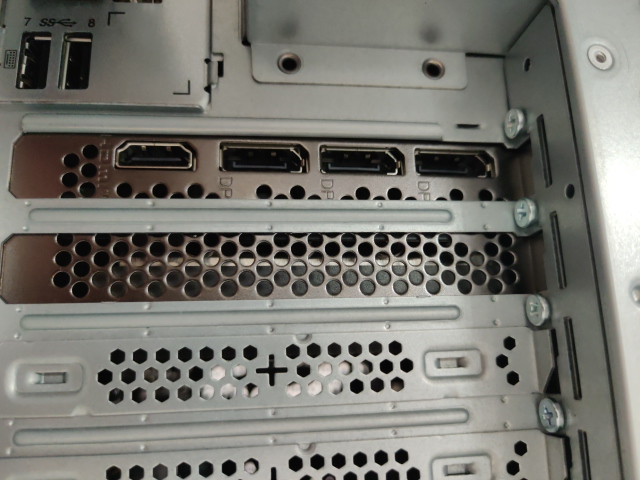DisplayPort: (216, 140, 312, 175), (317, 143, 408, 177), (413, 147, 499, 181)
HDMI: (113, 139, 199, 173)
USB: (15, 30, 53, 90), (57, 29, 93, 92)
